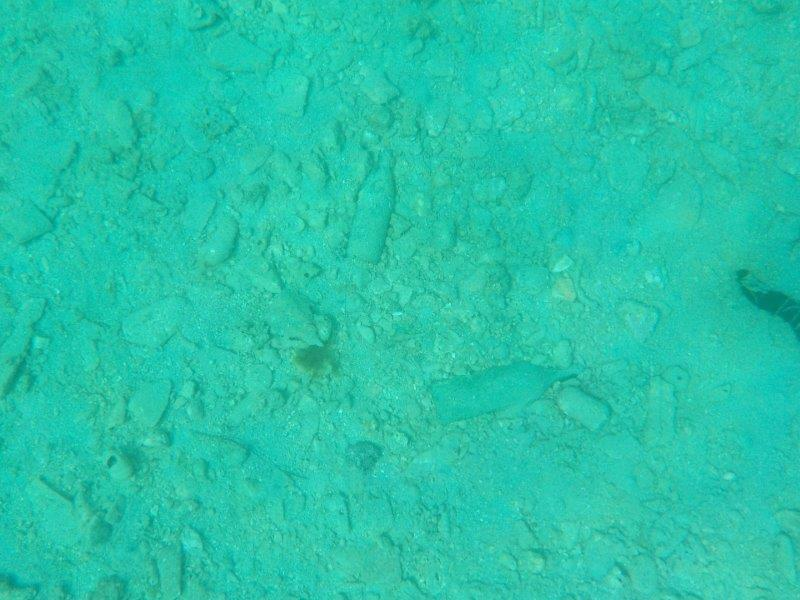bottle: (422, 355, 591, 430), (342, 142, 397, 266)
